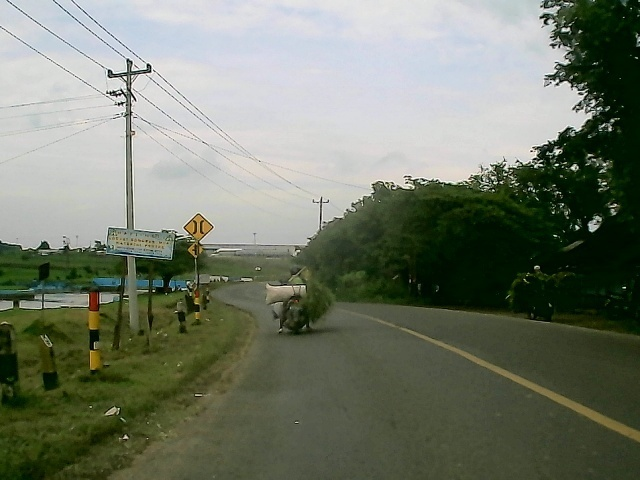Jembatan: (179, 209, 216, 244)
